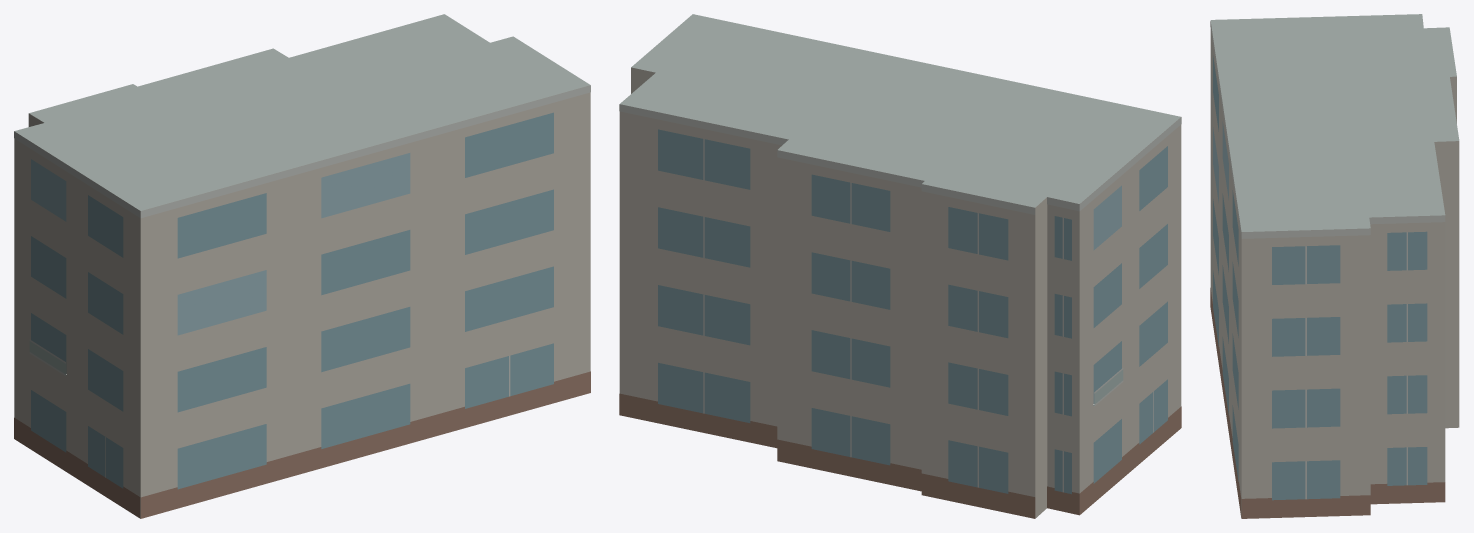
The model's file is survey-upis-32743030.glb.
3 views of the same model, side by side, from view 1: azimuth 30°, elevation 25°; view 2: azimuth 150°, elevation 25°; view 3: azimuth 270°, elevation 25° (orthographic). The views are drawn at different scales.
Parts seen in each view (by area): view 1: survey-upis-32743030.tmp; view 2: survey-upis-32743030.tmp; view 3: survey-upis-32743030.tmp.
Boxes of the visible parts, left/top/right/bottom form: survey-upis-32743030.tmp: left=14, top=14, right=590, bottom=518; survey-upis-32743030.tmp: left=619, top=14, right=1181, bottom=518; survey-upis-32743030.tmp: left=1210, top=14, right=1459, bottom=518.
Bounding box in the file's own units: 16.97 × 10.4 × 8.19.
